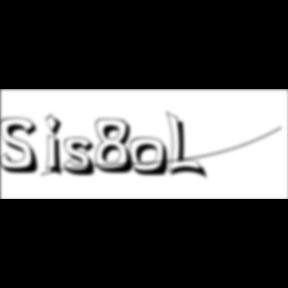8: (96, 117, 140, 176)
L: (166, 110, 210, 182)
S: (0, 117, 46, 176)
i: (46, 112, 70, 180)
o: (130, 137, 172, 179)
s: (64, 137, 102, 179)
